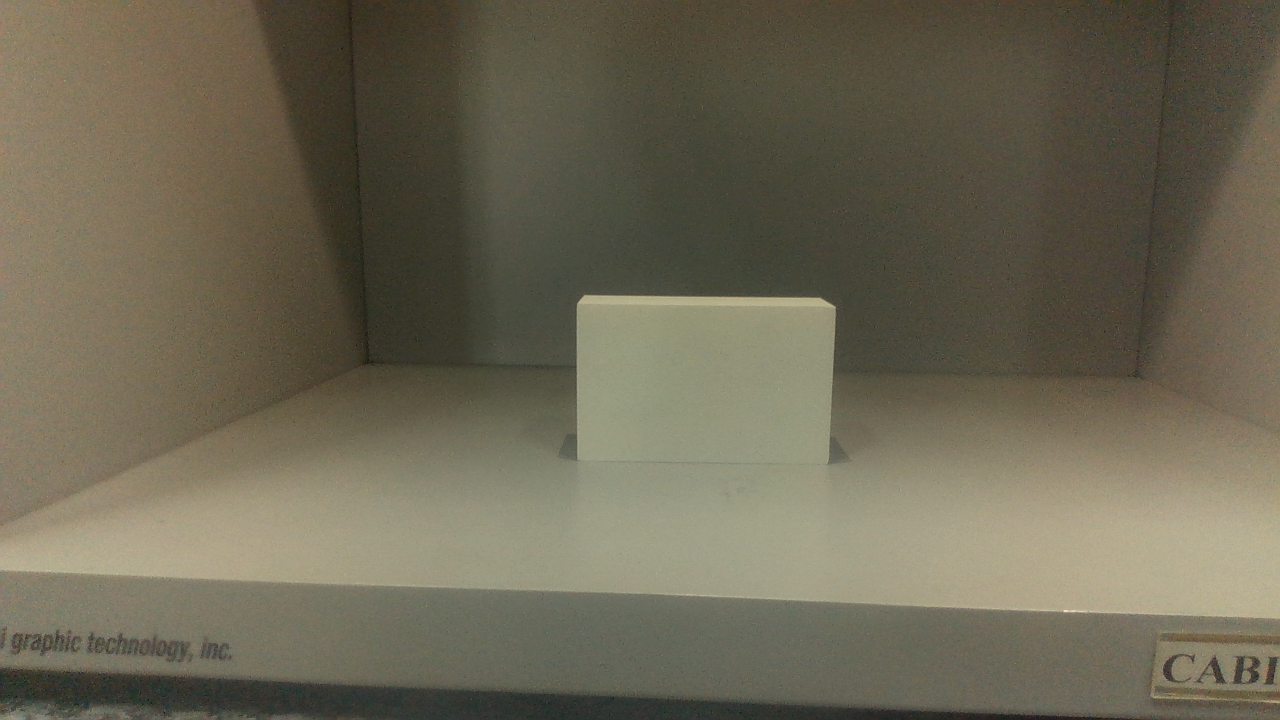Retangulo: (577, 294, 835, 467)
